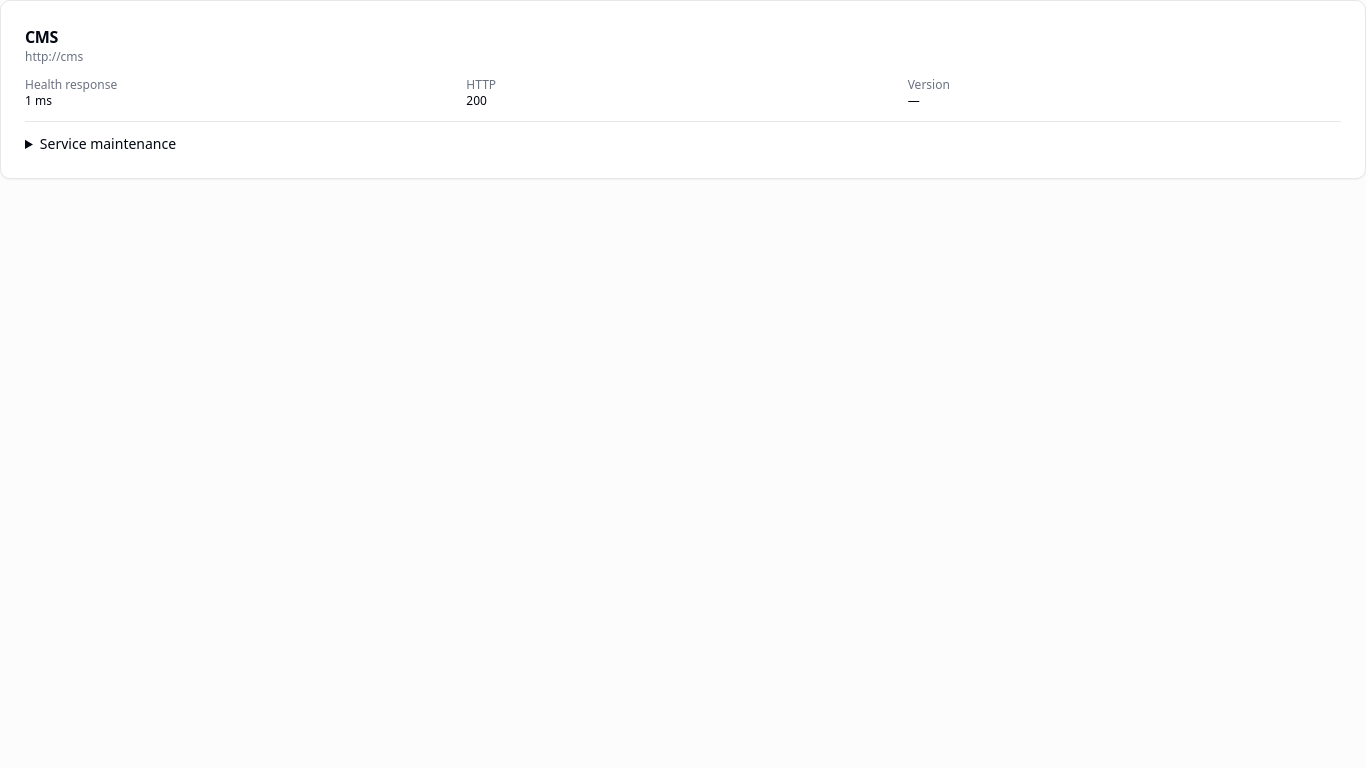
Test case: an open maintenance confirmation ages without a parent refresh
What coordinates should you click on to do the following:
click the heading "Service maintenance"
I would click on:
 (108, 144)
Its box is [40,134,176,153].
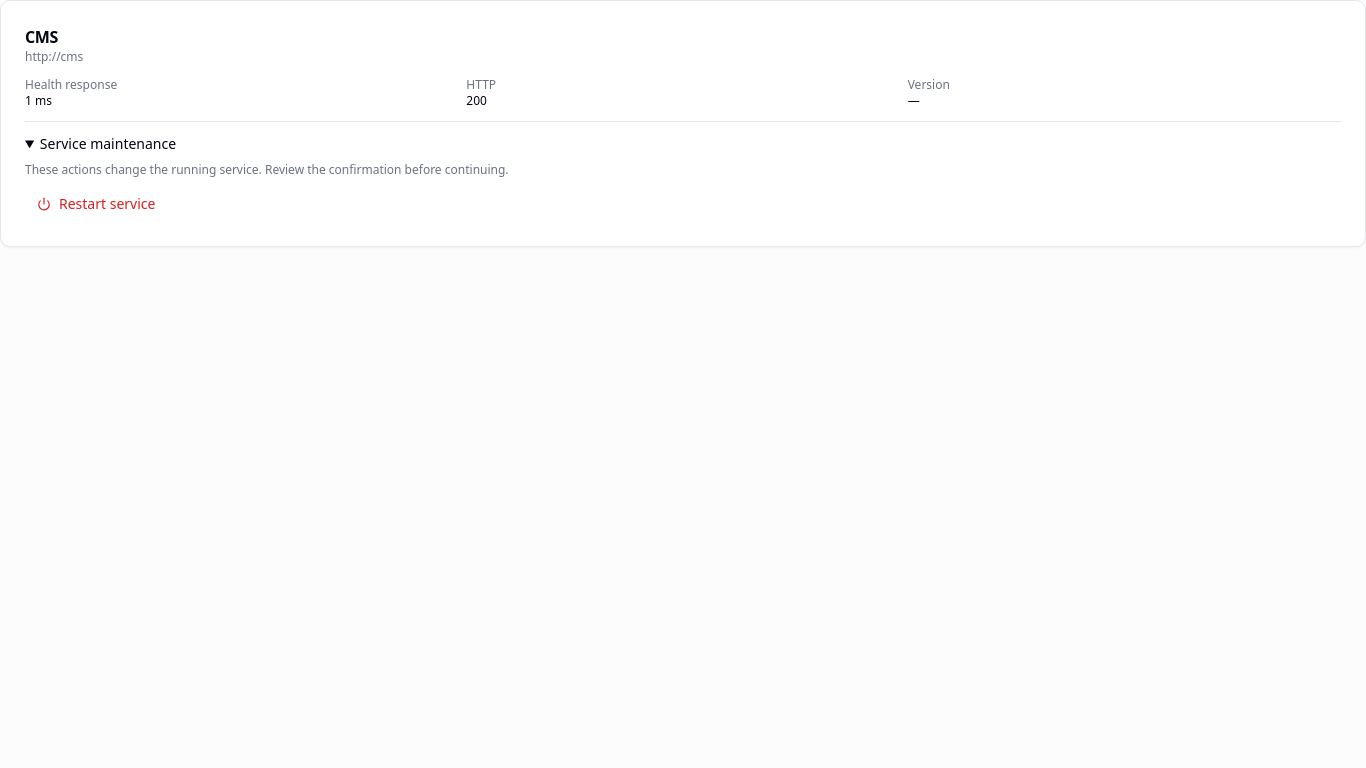
What coordinates should you click on to do the following:
click the button "Restart service"
I would click on:
 (96, 204)
Its box is [25,186,167,222].
Wait 46000 ms
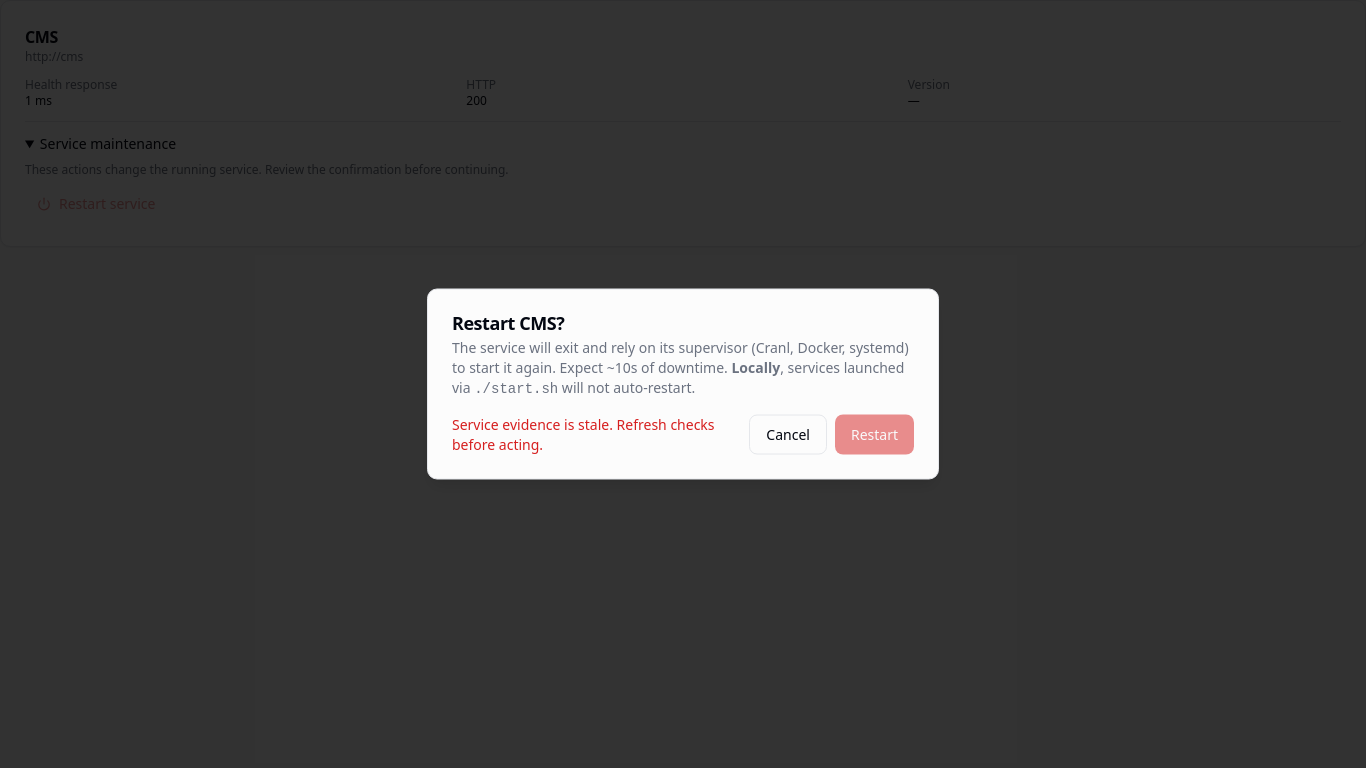
Result: the button "Restart" is disabled at [835,414,914,454]
